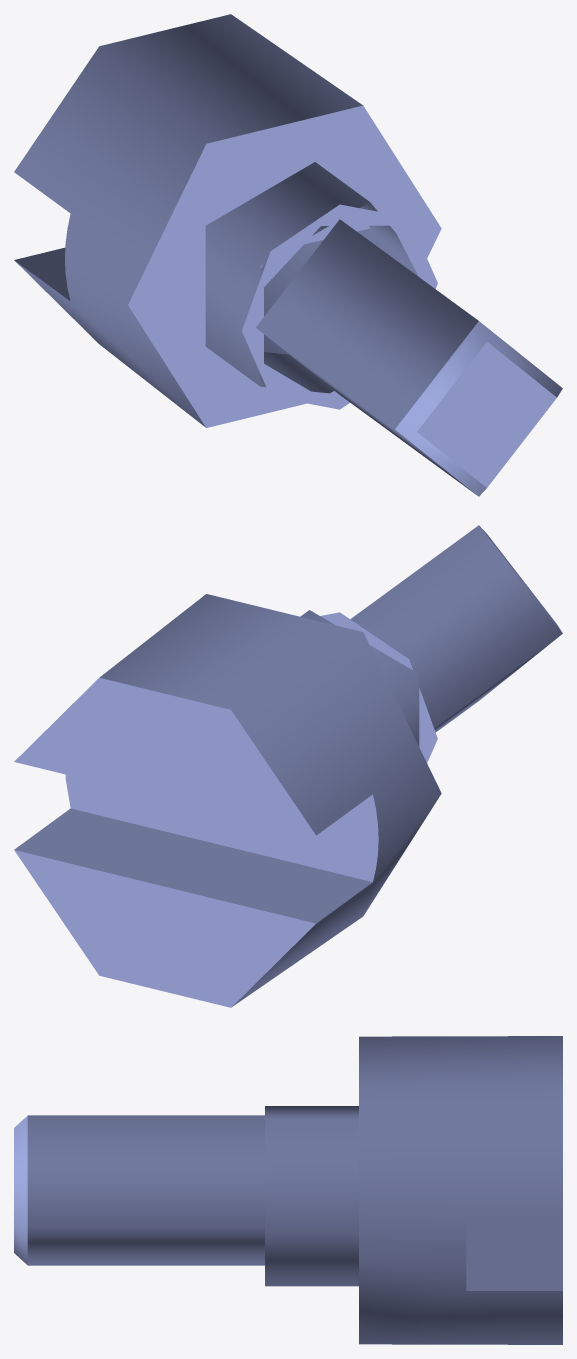
File: Copie de Copie de Vis bas pillier^Copie de Ass Pont de chauss_X2_00e9_X0_e_Horloge Comtoise Verge - Sonnerie.obj
The picture shows the model from 3 angles, top to bottom: view 1: azimuth 30°, elevation 25°; view 2: azimuth 150°, elevation 25°; view 3: azimuth 270°, elevation 25°; orthographic projection. The views are drawn at different scales.
Visible parts, largest first — view 1: Face_1, Face_2, Face_10, Face_7, Face_12, Face_9, Face_11, Face_4; view 2: Face_1, Face_5, Face_6, Face_10, Face_4, Face_8, Face_7, Face_9; view 3: Face_1, Face_10, Face_7, Face_4, Face_11.
Part boxes in pixels (x1,y1,x2,y2): Face_1: [14, 14, 382, 427]; Face_2: [128, 105, 441, 427]; Face_10: [256, 219, 478, 494]; Face_7: [205, 162, 418, 393]; Face_12: [417, 342, 556, 487]; Face_9: [242, 204, 437, 409]; Face_11: [395, 321, 562, 496]; Face_4: [14, 247, 70, 301]; Face_1: [100, 594, 441, 1007]; Face_5: [14, 850, 315, 1007]; Face_6: [14, 677, 315, 835]; Face_10: [350, 525, 562, 732]; Face_4: [14, 808, 372, 923]; Face_8: [65, 774, 378, 881]; Face_7: [300, 610, 419, 746]; Face_9: [320, 612, 437, 762]; Face_1: [359, 1036, 562, 1344]; Face_10: [27, 1115, 264, 1265]; Face_7: [265, 1106, 358, 1286]; Face_4: [466, 1216, 562, 1290]; Face_11: [14, 1116, 27, 1264].
Size of the model in its own units: 0.0056 by 0.00508 by 0.00995.
